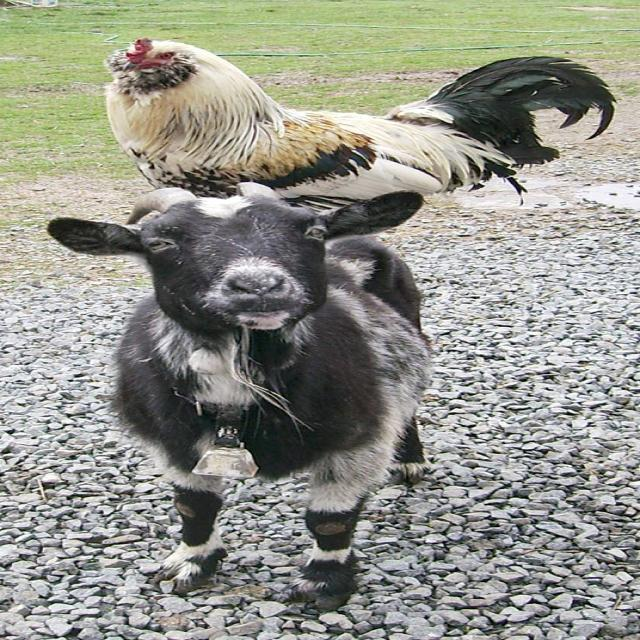Goat: (45, 181, 435, 610), (102, 37, 618, 210)
